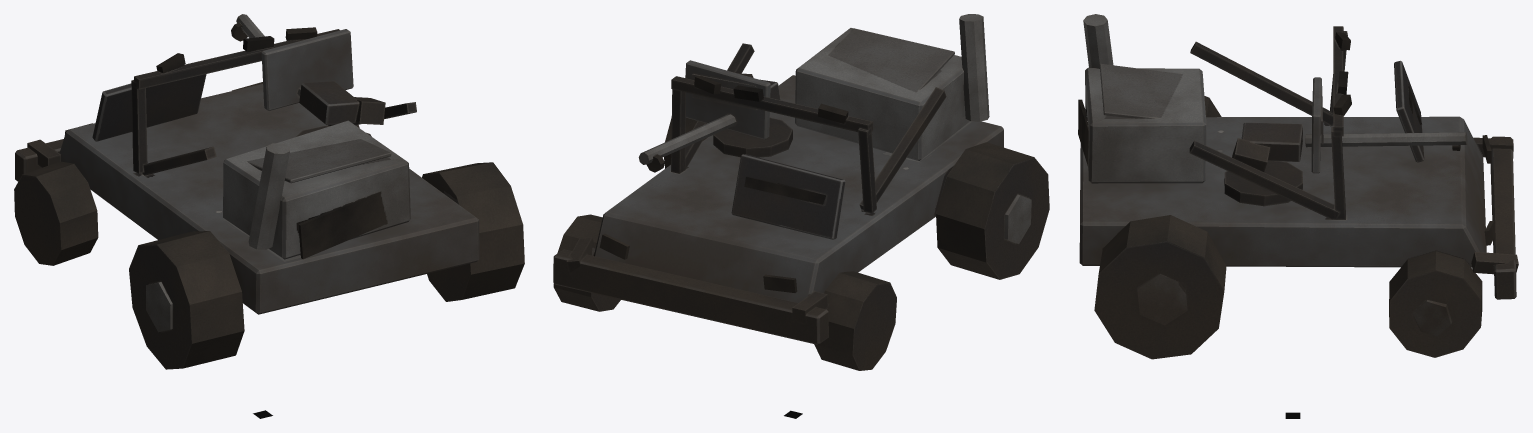
File: chs_jackal_wreck.fbx
The picture shows the model from 3 angles, left to right: view 1: azimuth 30°, elevation 25°; view 2: azimuth 150°, elevation 25°; view 3: azimuth 270°, elevation 25°; orthographic projection. The views are drawn at different scales.
Visible parts, largest first — view 1: base_bar, wheelL2_bar, turret_bar, wheelR2_bar, wheelL1_bar; view 2: base_bar, wheelL2_bar, turret_bar, wheelL1_bar, wheelR1_bar; view 3: base_bar, wheelR2_bar, wheelR1_bar, turret_bar.
Part boxes in pixels (bbox=[...]): base_bar: bbox=[15, 27, 479, 314]; wheelL2_bar: bbox=[129, 231, 244, 369]; turret_bar: bbox=[231, 14, 385, 136]; wheelR2_bar: bbox=[422, 162, 524, 301]; wheelL1_bar: bbox=[14, 161, 98, 265]; base_bar: bbox=[553, 14, 1003, 344]; wheelL2_bar: bbox=[936, 142, 1049, 279]; turret_bar: bbox=[638, 60, 792, 172]; wheelL1_bar: bbox=[814, 271, 896, 370]; wheelR1_bar: bbox=[553, 214, 620, 311]; base_bar: bbox=[1078, 14, 1518, 299]; wheelR2_bar: bbox=[1094, 215, 1226, 359]; wheelR1_bar: bbox=[1389, 251, 1482, 357]; turret_bar: bbox=[1224, 77, 1467, 206].
Bounding box in the file's own units: 524 × 531 × 596.
Materials: 2 (2 with a texture image).
